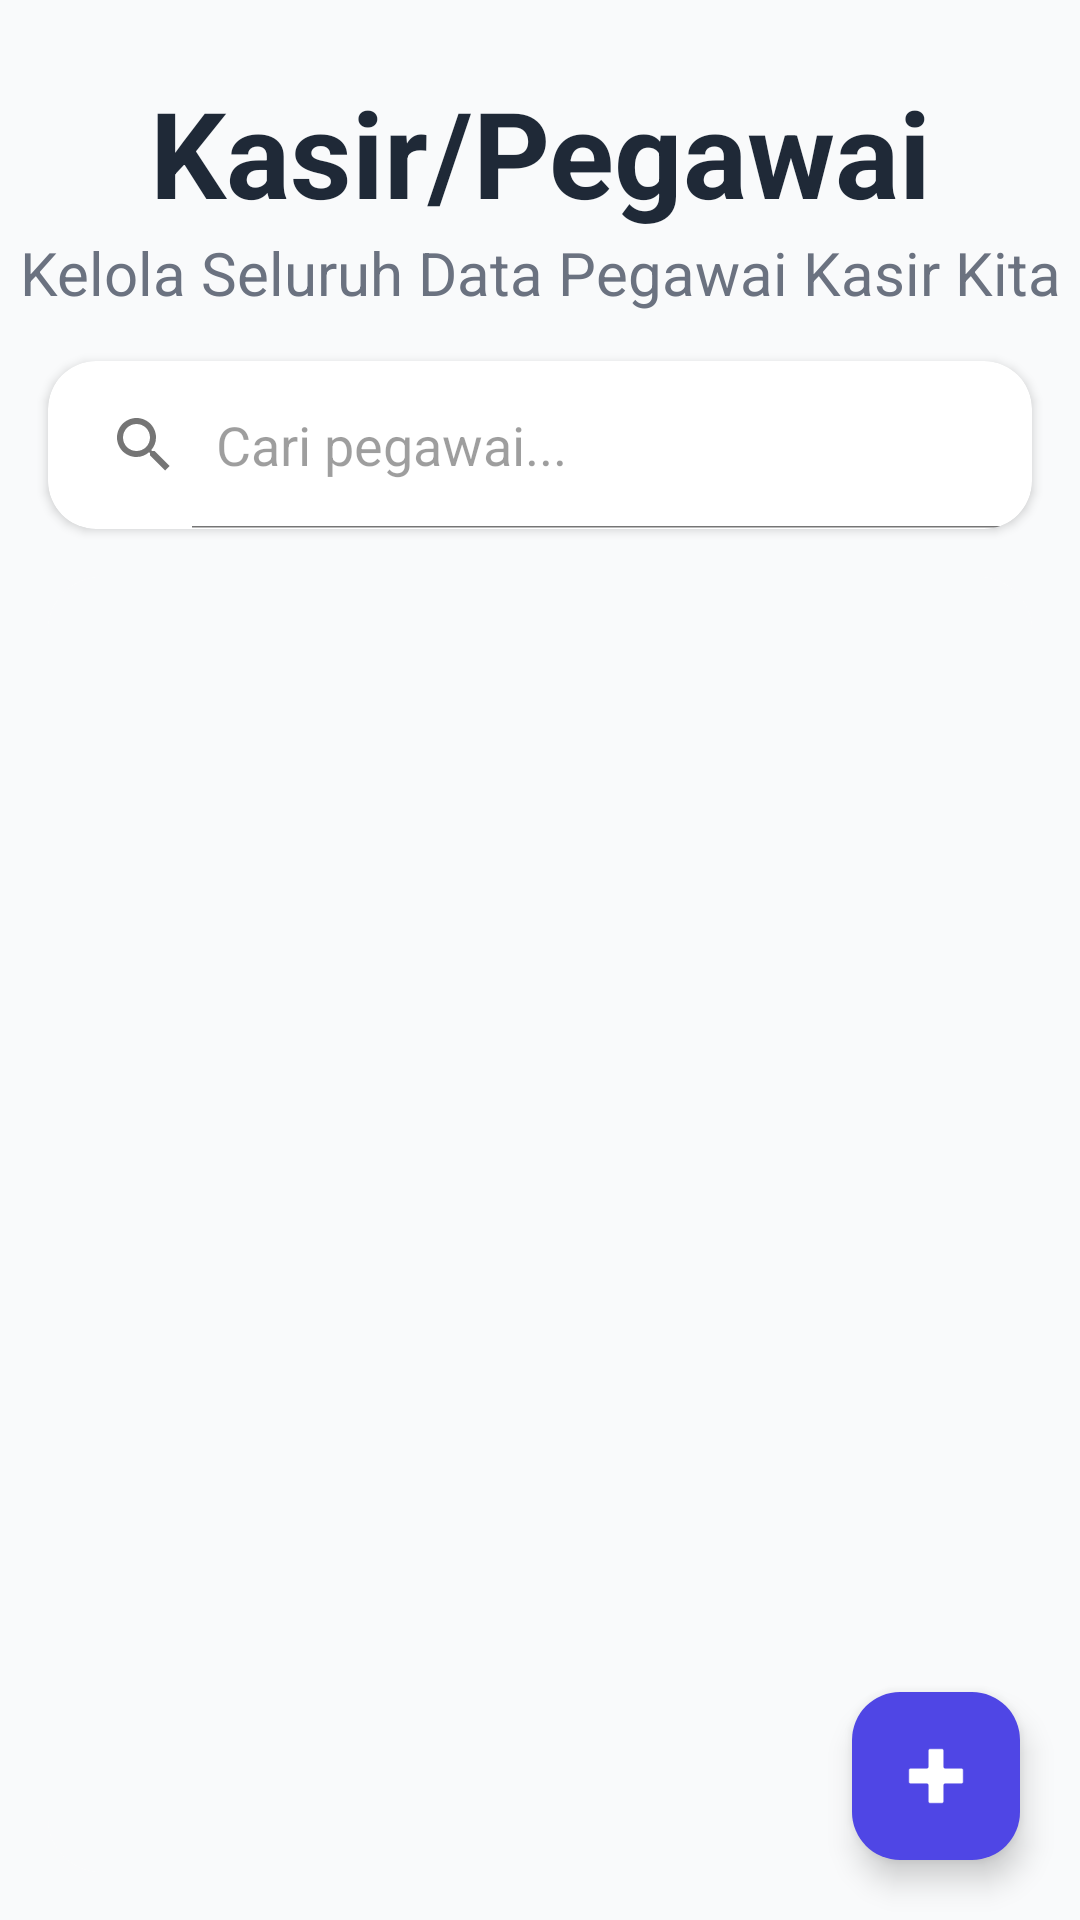

Point at icon controls on the screen. Image size 1080 × 1920, points as (x=x, y=y).
plus: (x=936, y=1776)
